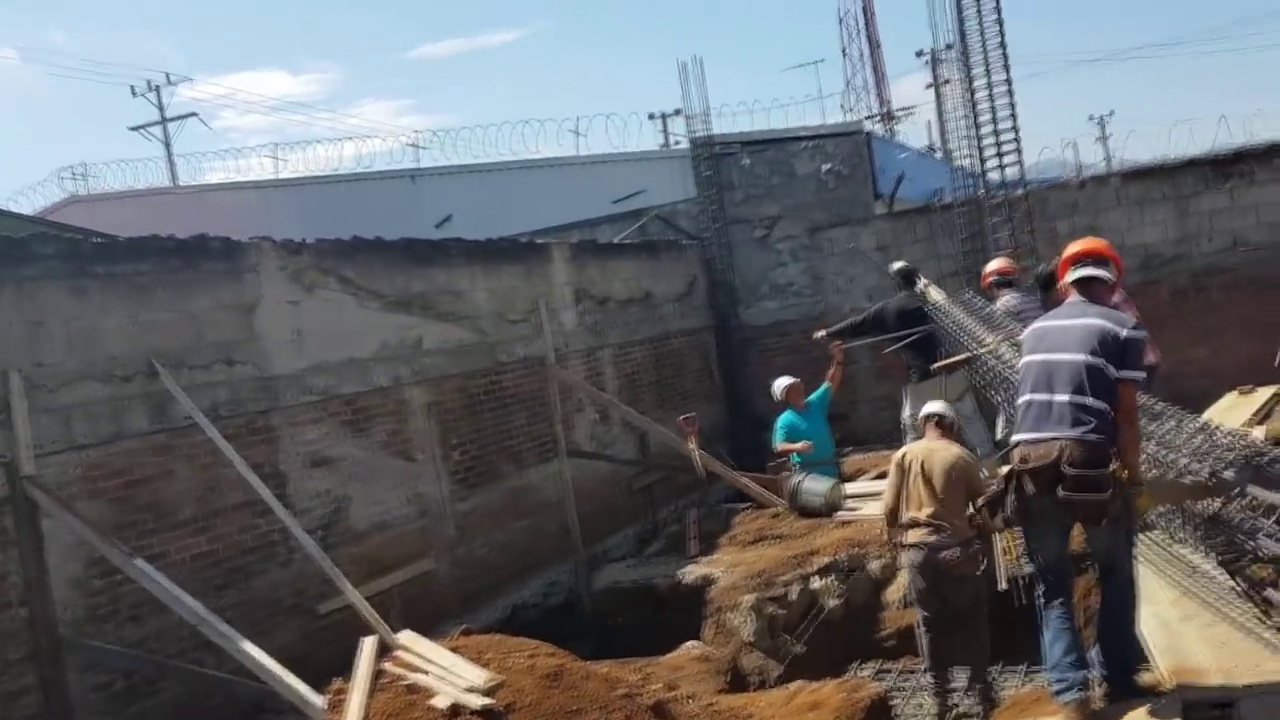helmet: (1056, 239, 1129, 298), (917, 395, 961, 433), (984, 258, 1019, 287), (771, 374, 801, 400)
helmet-off: (893, 262, 930, 296)
helmet-on: (1056, 240, 1133, 316), (915, 395, 961, 446), (982, 254, 1023, 303), (771, 374, 806, 412)
person: (1006, 234, 1160, 715), (880, 395, 995, 699), (809, 259, 942, 444), (772, 334, 852, 482), (972, 252, 1050, 331)
